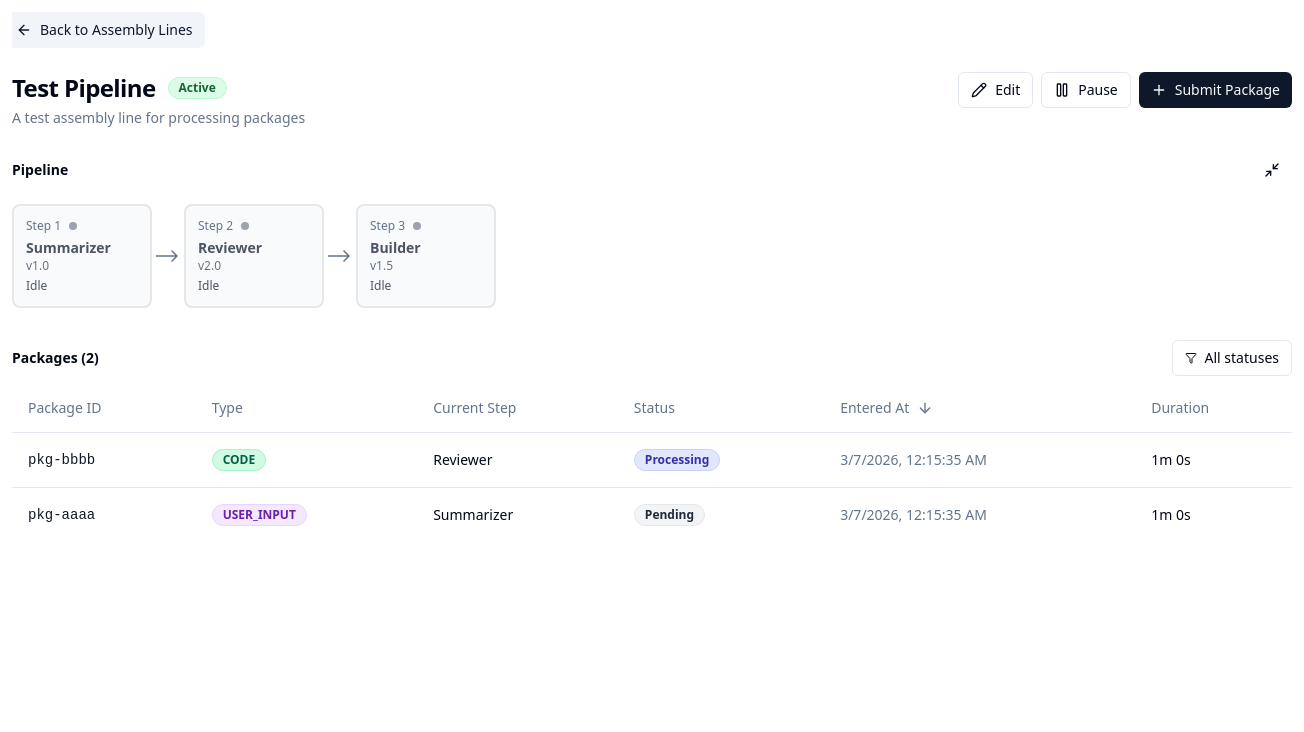
Scenario: AssemblyLineDetailPage › Pipeline visualization › toggles compact mode
Expected: the element with test id "step-1" is shown, [12,204,152,308]
Click collapse
Click the button named "Collapse pipeline": x=1272, y=170 [1252,152,1292,188]
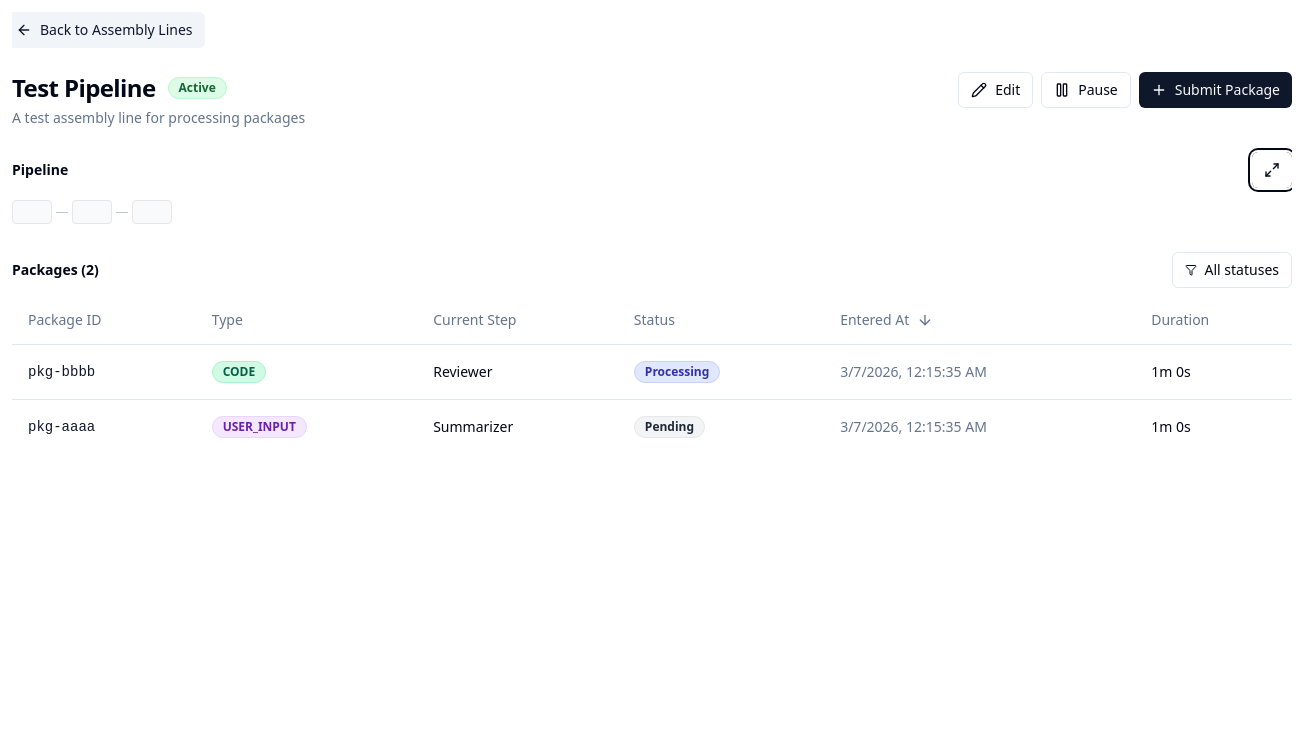
Now the element with test id "compact-step-1" is shown, box [12,200,52,224]
Click expand
Click the button named "Expand pipeline": x=1272, y=170 [1252,152,1292,188]
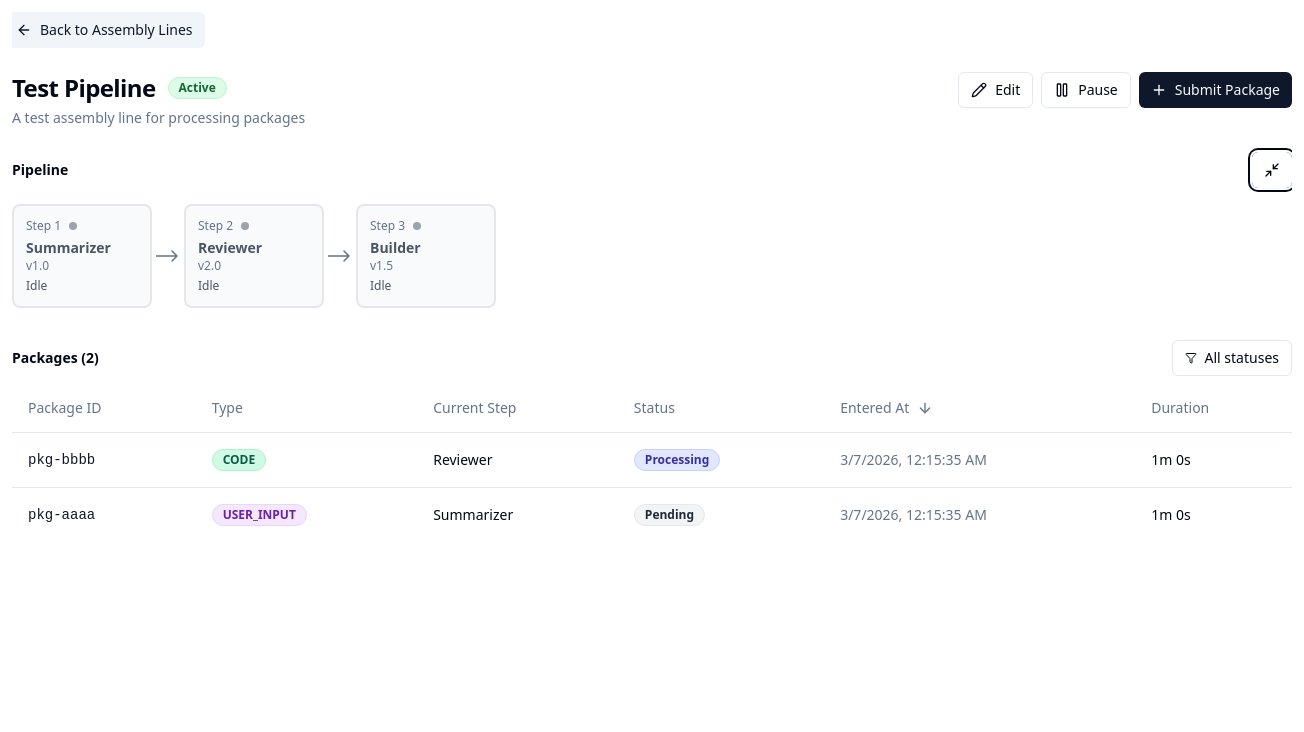
Now the element with test id "step-1" is shown, box [12,204,152,308]
